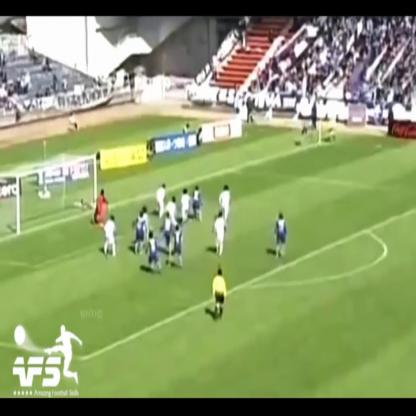corner kick: (284, 58, 357, 192)
